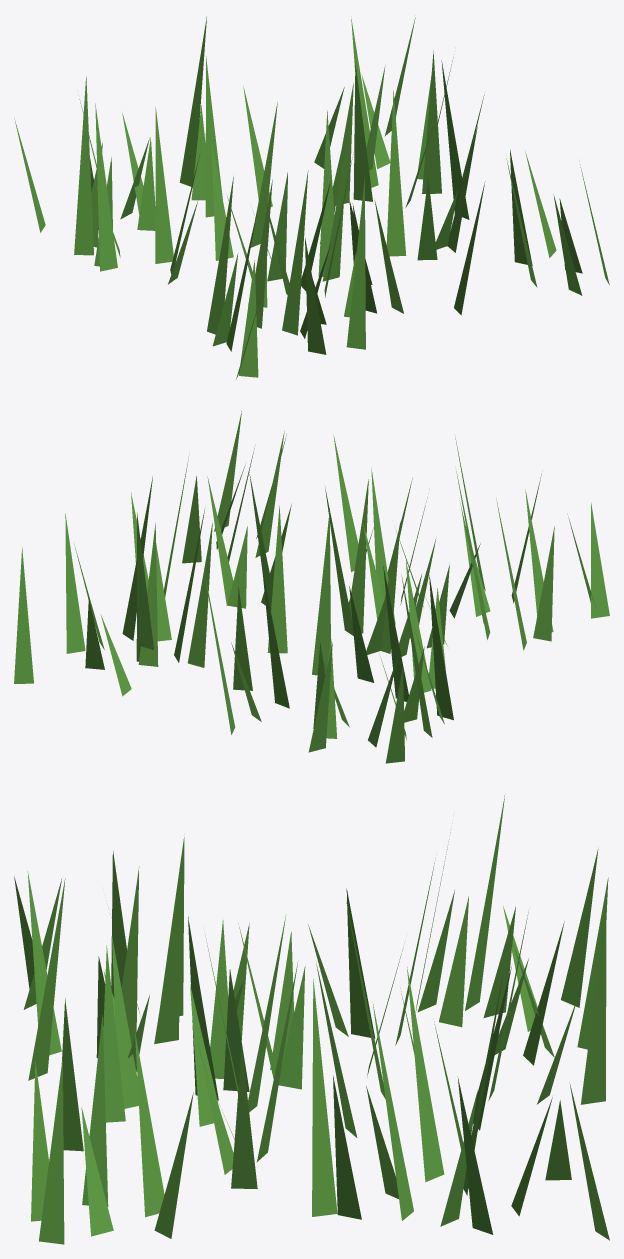
The model's file is grass-patch.glb.
3 renders of one model, top to bottom at view 1: azimuth 30°, elevation 25°; view 2: azimuth 150°, elevation 25°; view 3: azimuth 270°, elevation 25°, orthographic. The views are drawn at different scales.
Parts seen in each view (by area): view 1: grass-patch; view 2: grass-patch; view 3: grass-patch.
Boxes of the visible parts, x1=… form: grass-patch: x1=14, y1=16, x2=609, y2=379; grass-patch: x1=14, y1=411, x2=609, y2=763; grass-patch: x1=14, y1=795, x2=609, y2=1244.
Size of the model in its own units: 1.03 by 0.426 by 1.03.
